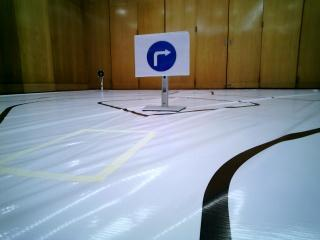right: (132, 35, 189, 76)
